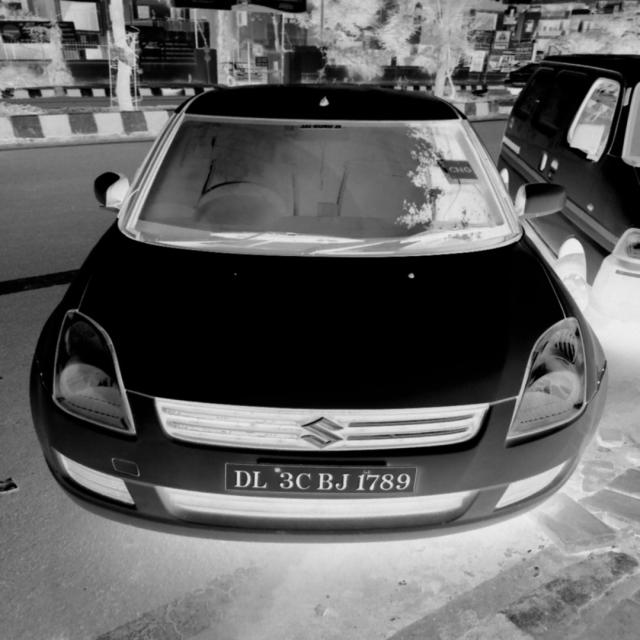Non_registered: (225, 461, 415, 498)
